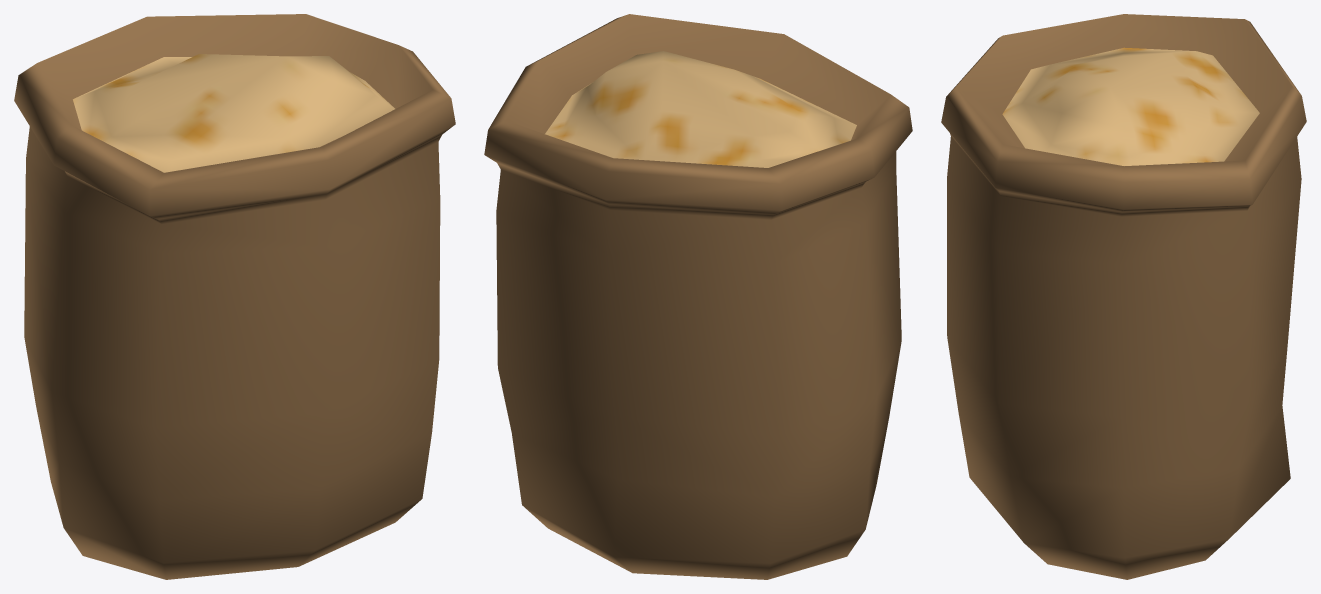
The model's file is SM_Prop_Bag_01.obj.
The picture shows the model from 3 angles, left to right: view 1: azimuth 30°, elevation 25°; view 2: azimuth 150°, elevation 25°; view 3: azimuth 270°, elevation 25°; orthographic projection. The views are drawn at different scales.
Visible parts, largest first — view 1: SM_Prop_Bag_01_Mat_SwatchOverlay_Farm_01_Inst, SM_Prop_Bag_01_Mat_SwatchOverlay_Farm_Main_01_Inst; view 2: SM_Prop_Bag_01_Mat_SwatchOverlay_Farm_01_Inst, SM_Prop_Bag_01_Mat_SwatchOverlay_Farm_Main_01_Inst; view 3: SM_Prop_Bag_01_Mat_SwatchOverlay_Farm_01_Inst, SM_Prop_Bag_01_Mat_SwatchOverlay_Farm_Main_01_Inst.
Boxes of the visible parts, x1,y1,x2,y2 form: SM_Prop_Bag_01_Mat_SwatchOverlay_Farm_01_Inst: (14,14,455,579); SM_Prop_Bag_01_Mat_SwatchOverlay_Farm_Main_01_Inst: (73,54,394,172); SM_Prop_Bag_01_Mat_SwatchOverlay_Farm_01_Inst: (484,14,912,579); SM_Prop_Bag_01_Mat_SwatchOverlay_Farm_Main_01_Inst: (545,51,856,167); SM_Prop_Bag_01_Mat_SwatchOverlay_Farm_01_Inst: (941,14,1306,579); SM_Prop_Bag_01_Mat_SwatchOverlay_Farm_Main_01_Inst: (1002,47,1259,165).
Size of the model in its own units: 0.5653 by 0.6844 by 0.5149.
Materials: 2 (2 with a texture image).
